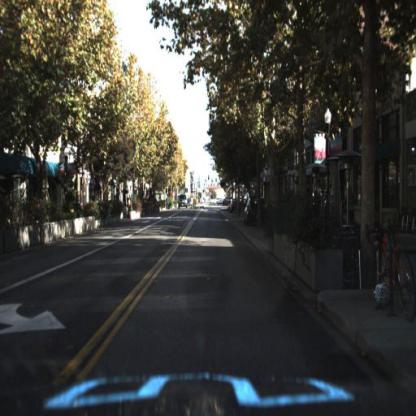car: (243, 194, 269, 226), (175, 190, 190, 213)
pedestrian: (339, 185, 358, 229)
